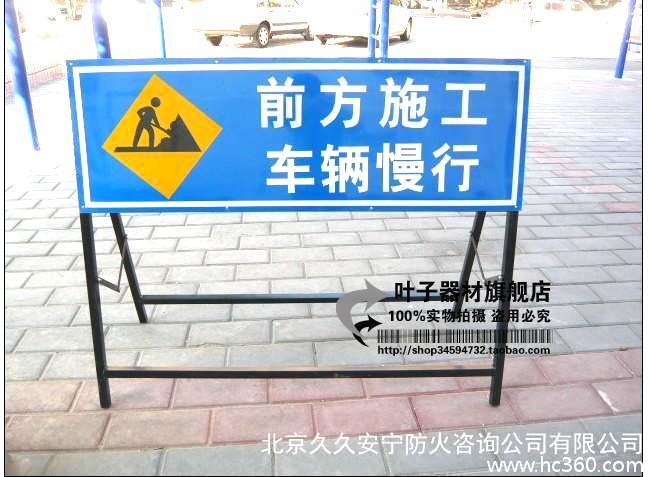sign: (68, 59, 519, 209)
